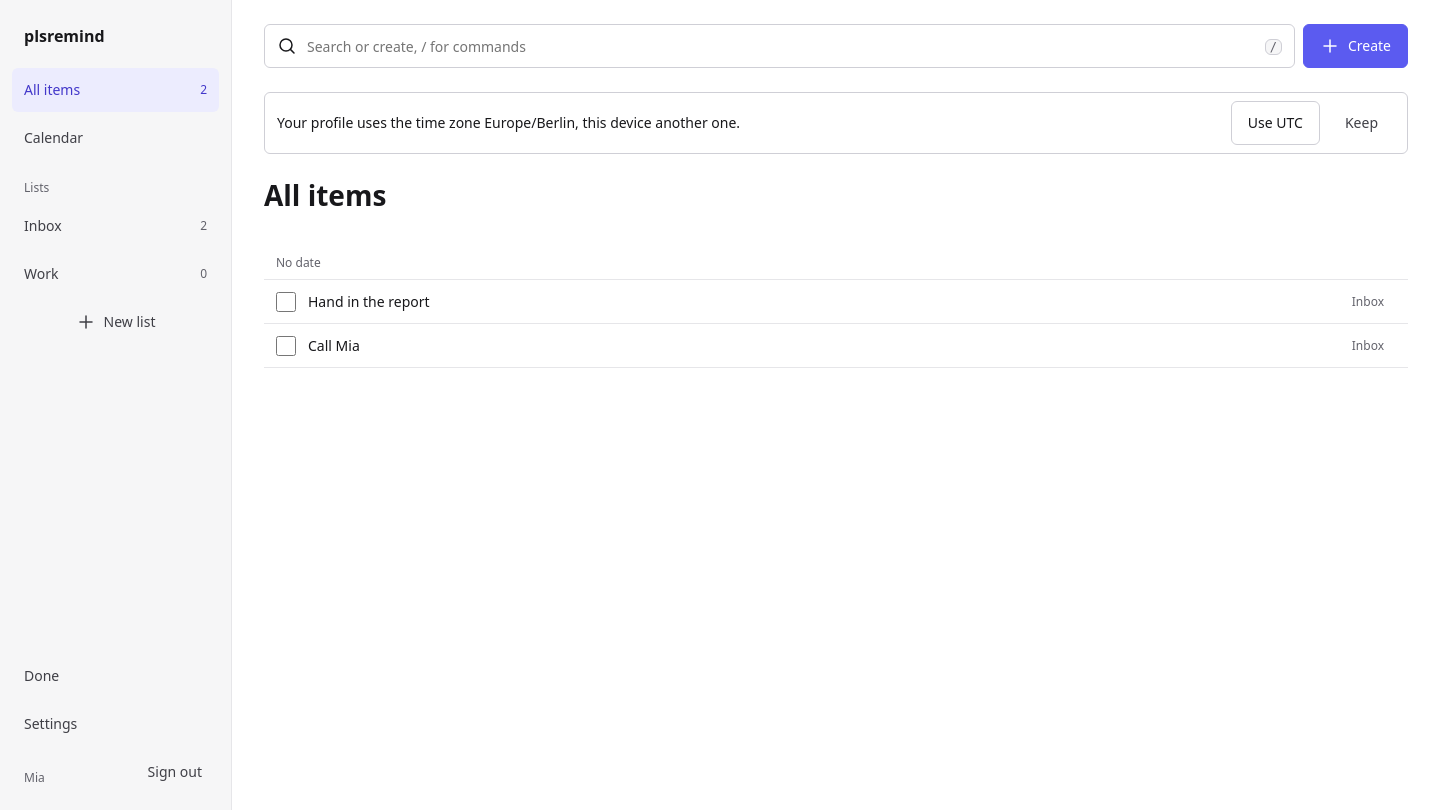
find lists open and done items that match
This screenshot has width=1440, height=810.
In the dropdown named "Search, create": (781, 46) [305,25,1257,67], type "/find report"
Then press Enter
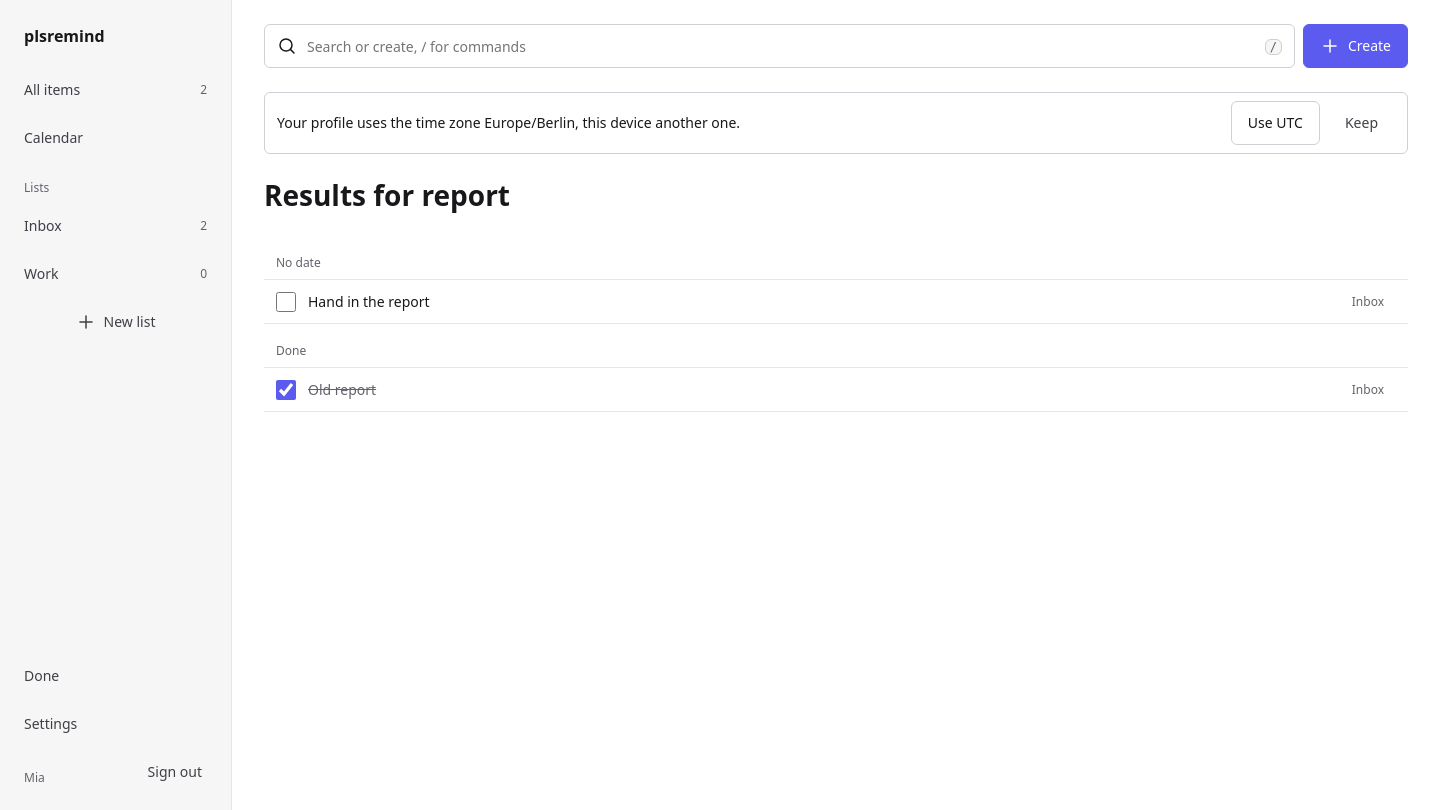
Expected: the heading "Results for report" is shown, [264,176,510,214]
